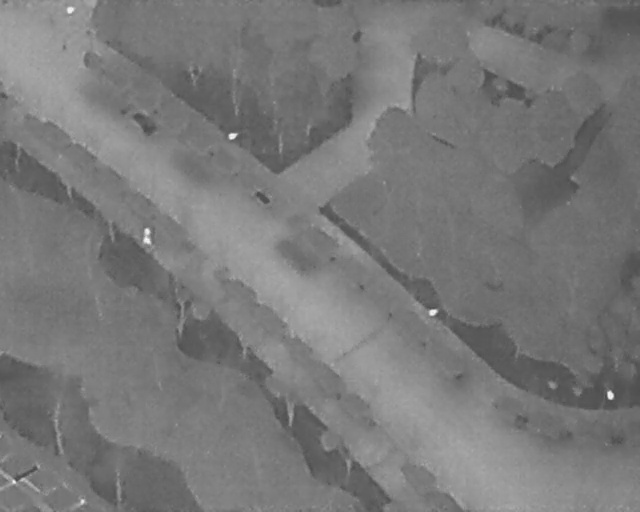Person: (141, 226, 151, 245)
